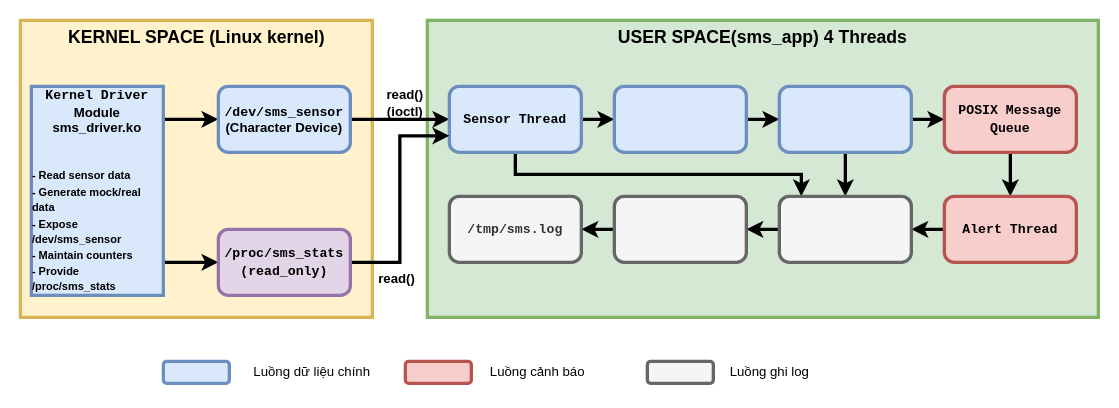
Image size: 1119x408. Some labels were removed from this diagram. Here are the shapes that lost their labels. From the top down, the centre of each, then its label:
At pixel 679 118: "Circular Buffer".
At pixel 844 118: "Processor Thread".
At pixel 679 228: "Logger Thread".
At pixel 844 228: "LogQueue".
